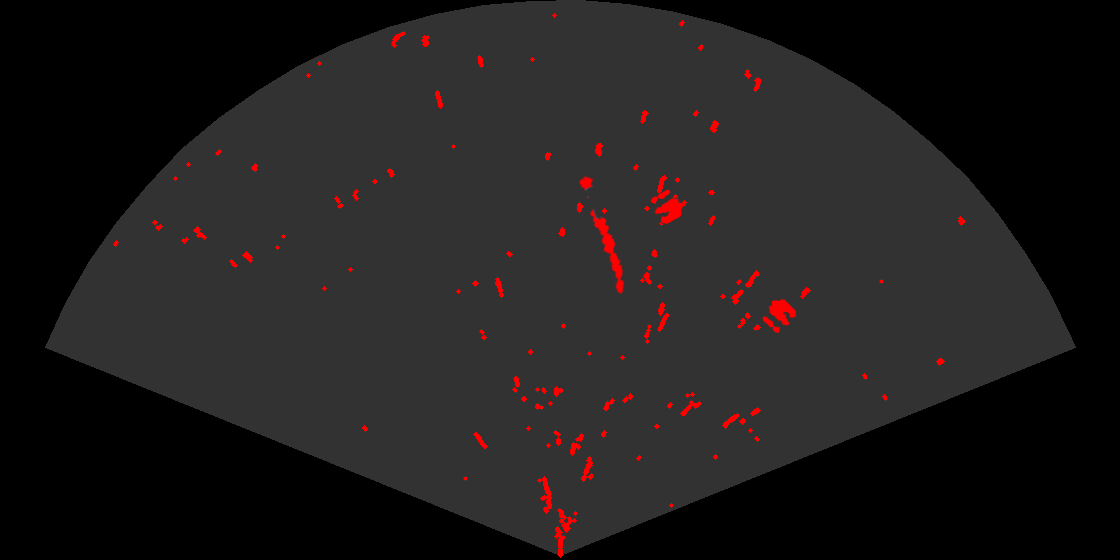ball: (761, 298, 798, 335), (649, 188, 685, 226)
chain: (577, 174, 626, 296)
